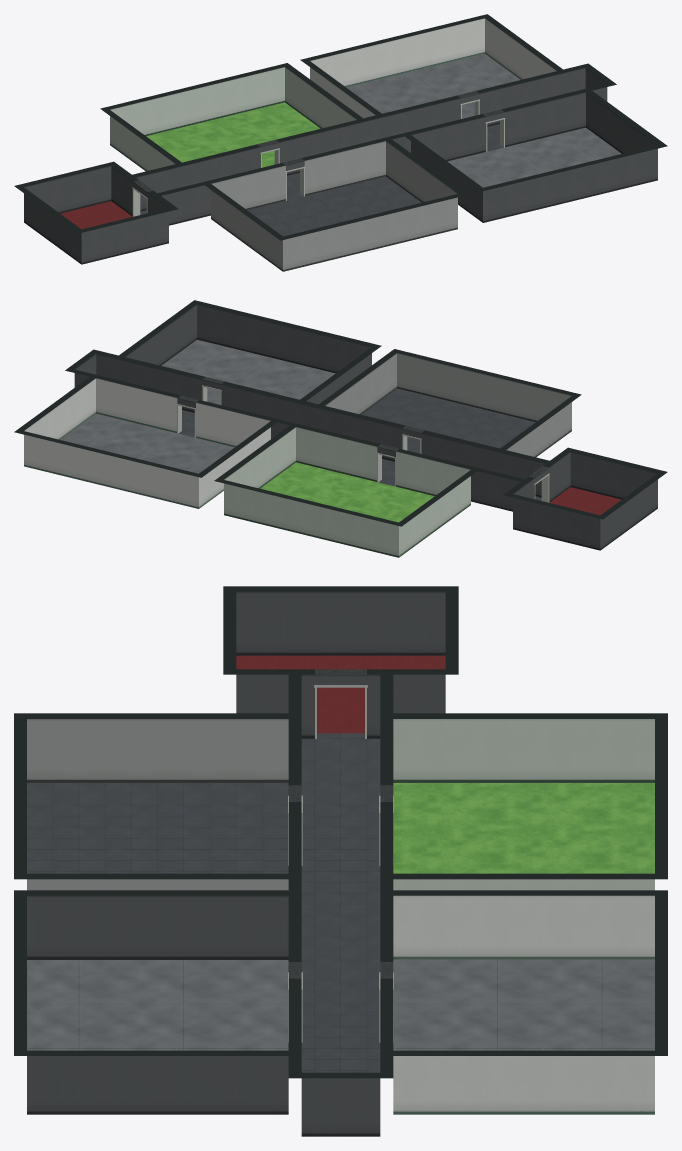
File: testing.gltf
3 renders of one model, top to bottom at view 1: azimuth 30°, elevation 25°; view 2: azimuth 150°, elevation 25°; view 3: azimuth 270°, elevation 25°, orthographic. The views are drawn at different scales.
Parts seen in each view (by area): view 1: WALLS, FLOOR, WALLTOP, HEADERS; view 2: WALLS, FLOOR, WALLTOP, HEADERS; view 3: WALLS, FLOOR, WALLTOP, HEADERS.
Part boxes in pixels (bbox=[...]): WALLS: bbox=[24, 18, 657, 271]; FLOOR: bbox=[60, 53, 621, 236]; WALLTOP: bbox=[14, 14, 667, 240]; HEADERS: bbox=[132, 91, 505, 216]; WALLS: bbox=[24, 304, 657, 557]; FLOOR: bbox=[60, 339, 621, 522]; WALLTOP: bbox=[14, 300, 667, 526]; HEADERS: bbox=[176, 377, 549, 502]; WALLS: bbox=[27, 591, 654, 1136]; FLOOR: bbox=[27, 655, 654, 1072]; WALLTOP: bbox=[14, 586, 667, 1078]; HEADERS: bbox=[288, 669, 393, 1042].
Size of the model in its own units: 44.5 by 2.7 by 25.
10 materials, 8 textured.
